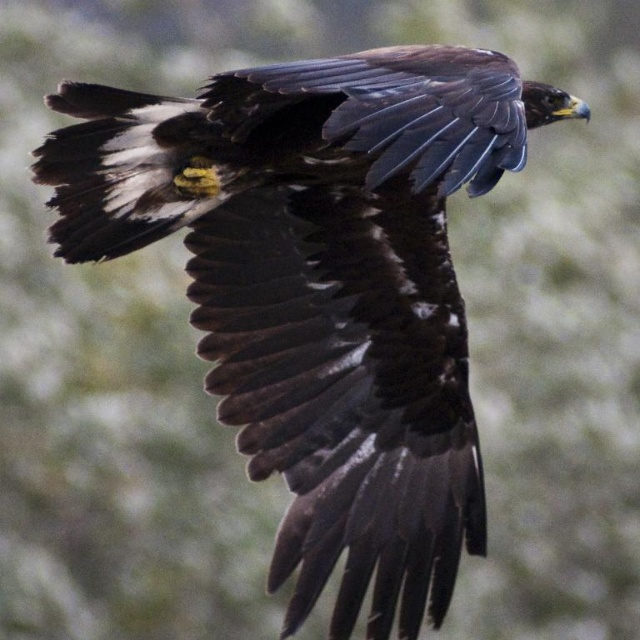Eagle: (19, 44, 598, 640)
